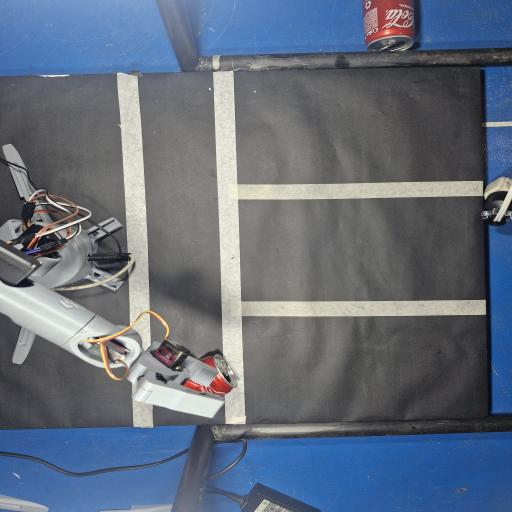lata_defectuoso: (184, 354, 237, 396)
